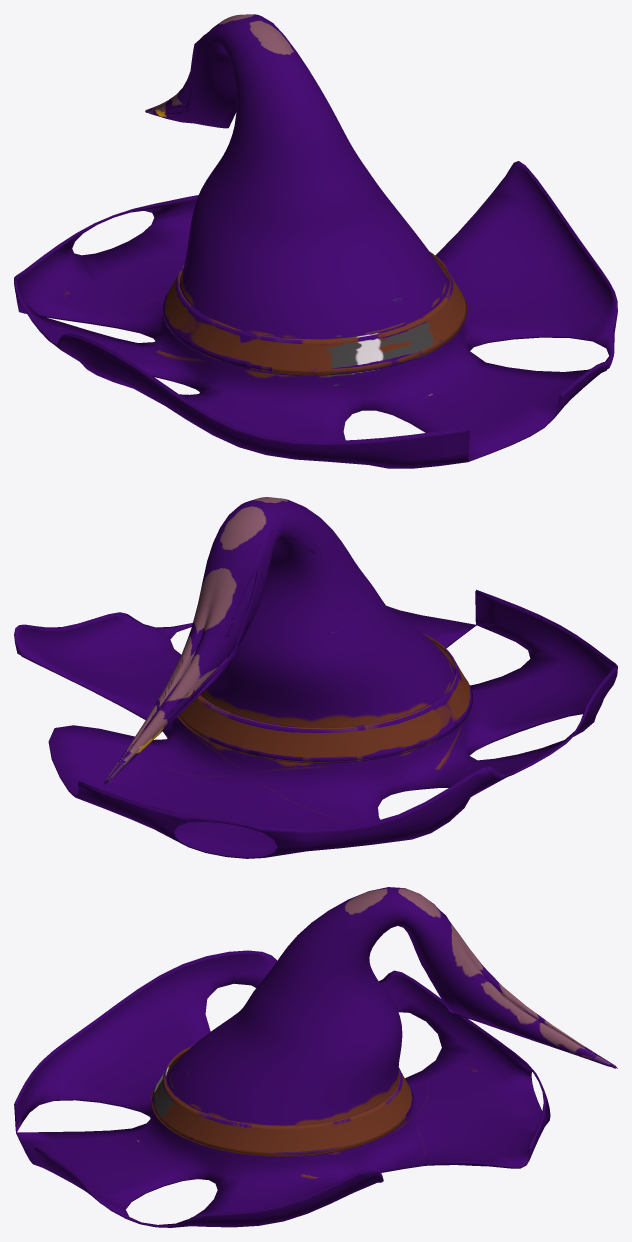
The model's file is Maguso_TornHat_SomewhatTorn.fbx.
The picture shows the model from 3 angles, top to bottom: view 1: azimuth 30°, elevation 25°; view 2: azimuth 150°, elevation 25°; view 3: azimuth 270°, elevation 25°; orthographic projection. The views are drawn at different scales.
Parts seen in each view (by area): view 1: Circle; view 2: Circle; view 3: Circle.
Boxes of the visible parts, x1,y1,x2,y2 form: Circle: (14, 14, 617, 468); Circle: (14, 497, 617, 858); Circle: (14, 887, 617, 1227).
Size of the model in its own units: 396 by 205 by 460.
